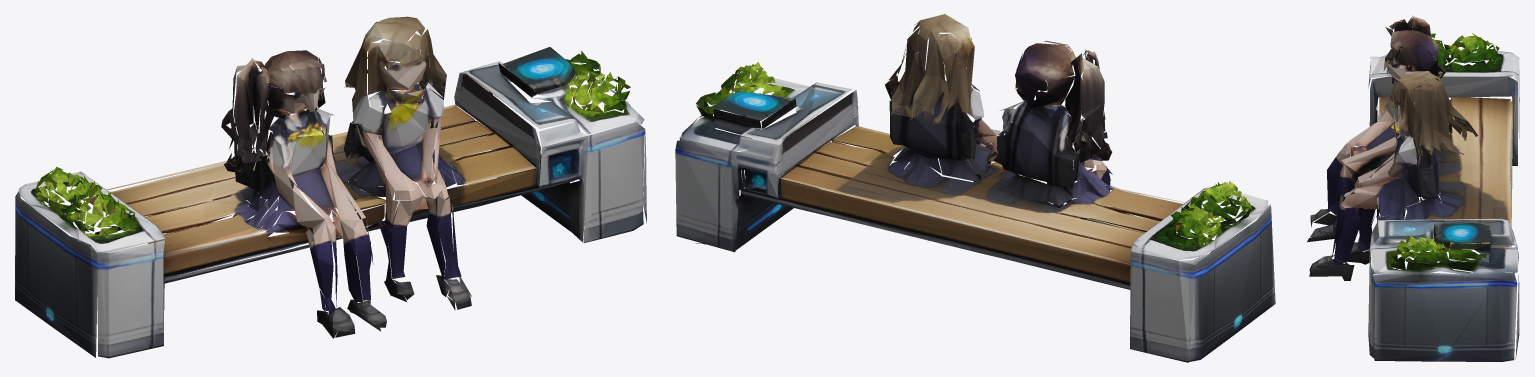
File: girls_bench.glb
3 views of the same model, side by side, from view 1: azimuth 30°, elevation 25°; view 2: azimuth 150°, elevation 25°; view 3: azimuth 270°, elevation 25° (orthographic). The views are drawn at different scales.
Parts seen in each view (by area): view 1: world.313; view 2: world.313; view 3: world.313.
Boxes of the visible parts, box(x1,y1,x2,y2) form: world.313: box(15, 16, 646, 358); world.313: box(675, 14, 1275, 362); world.313: box(1307, 16, 1519, 361).
Size of the model in its own units: 0.9977 by 0.4204 by 0.4054.
1 material, 1 textured.
